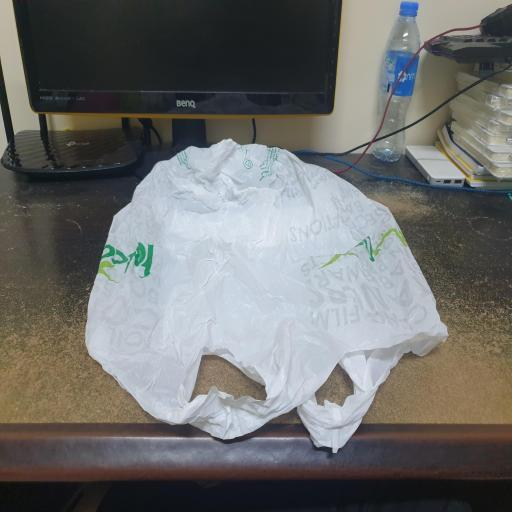plastic bag: (77, 136, 453, 454)
